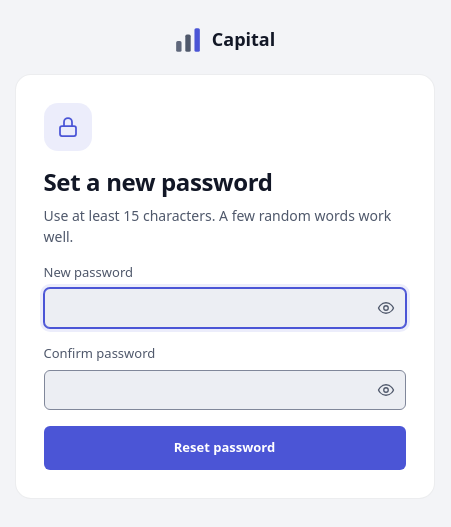
Test case: RESET-USE new password screen › auth-05 moves the cursor to the field with the problem and announces it
In the password field labelled "New password": (224, 308) [44,288,406,328], type "Synthetic-new-reset-password-42!"
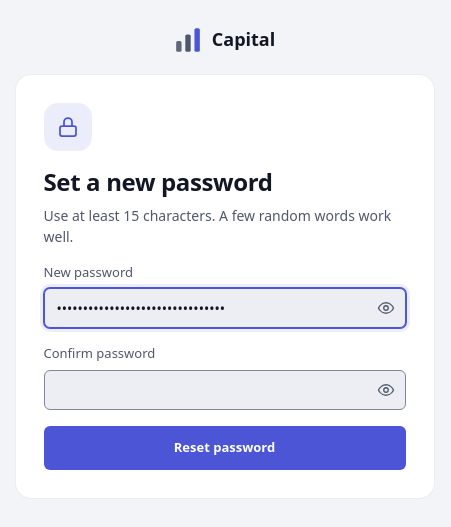
In the password field labelled "Confirm password": (224, 390) [44,370,406,410], type "different"
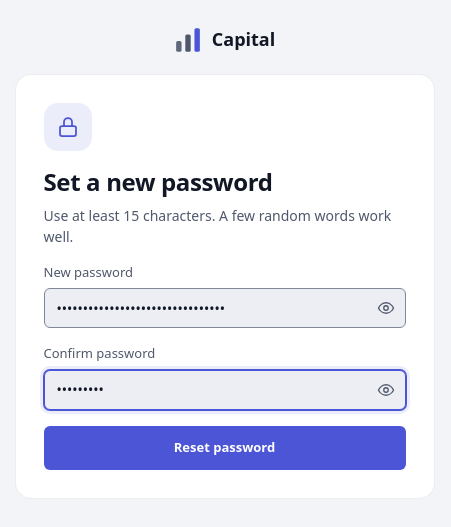
Click the button "Reset password": (224, 448) [44,426,406,470]
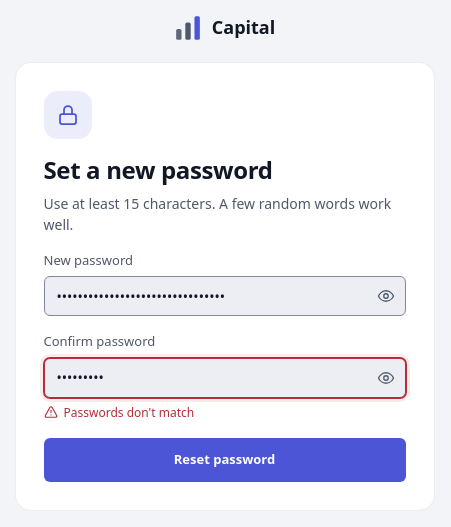
Check: the message reads "Passwords don't match", box [64,404,194,420]
